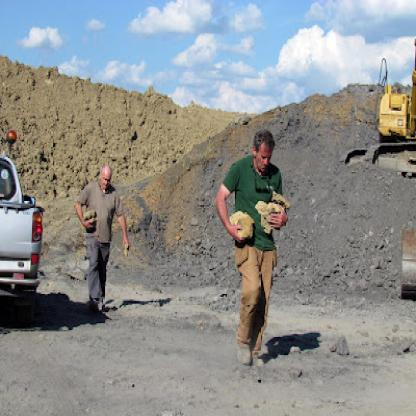person: (203, 104, 294, 370), (80, 143, 134, 322)
